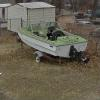Boat: (14, 17, 91, 65)
